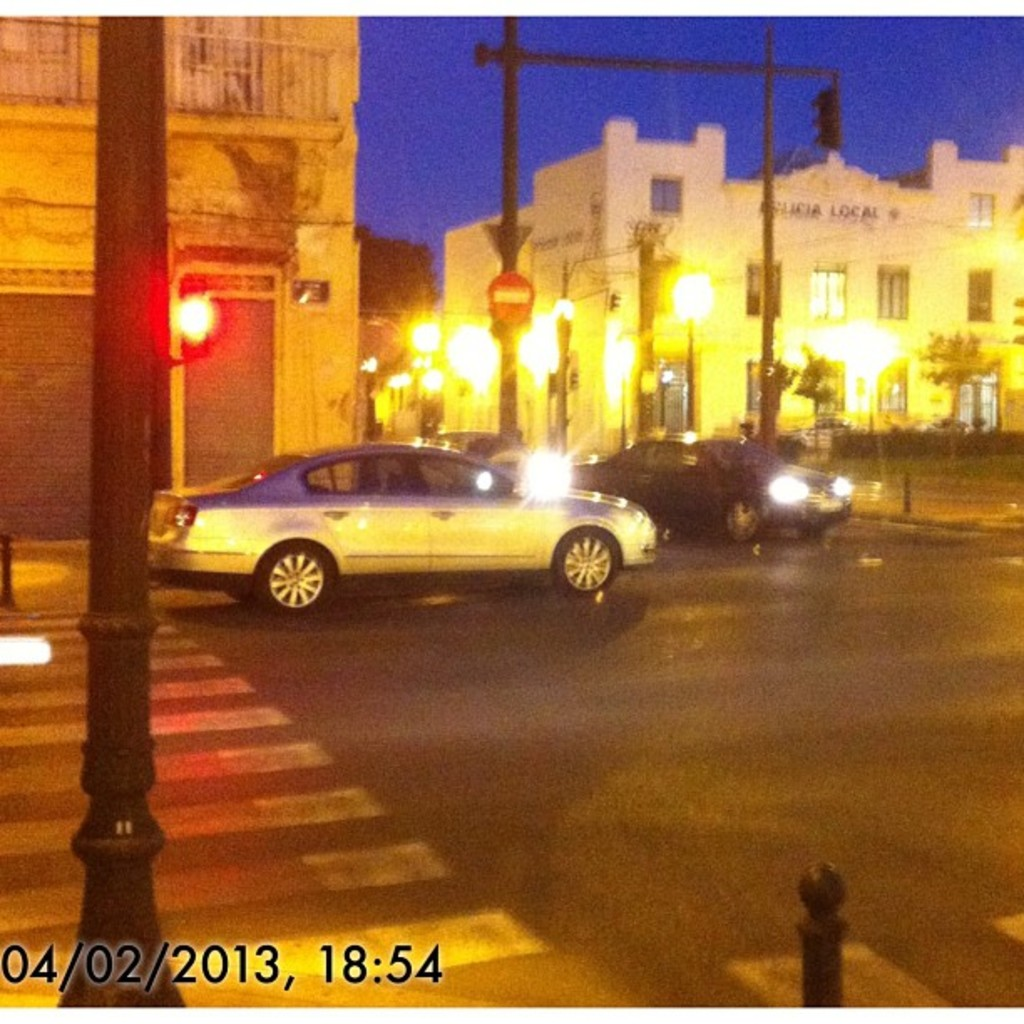Car: (138, 438, 660, 615), (565, 438, 856, 540)
